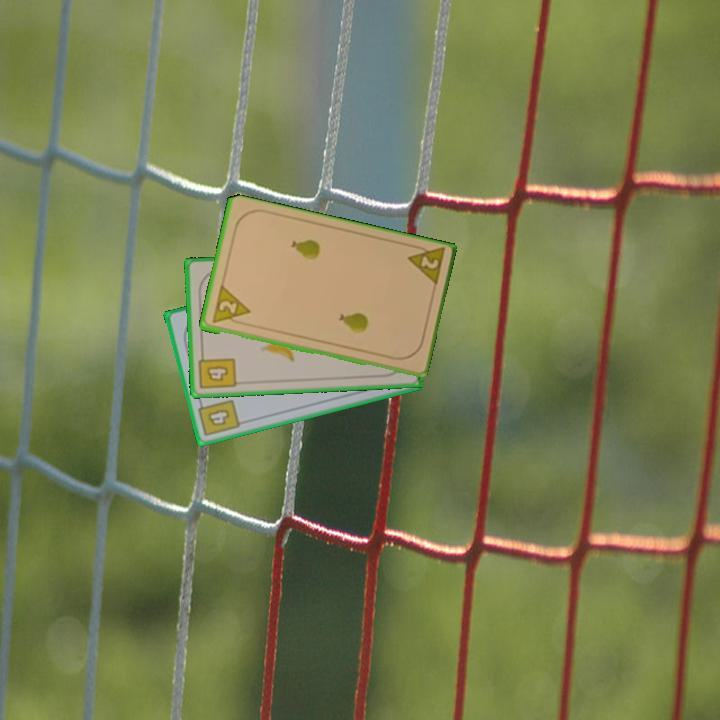2p: (403, 241, 447, 290), (208, 284, 252, 327)
4b: (195, 396, 243, 440), (196, 348, 239, 392)
